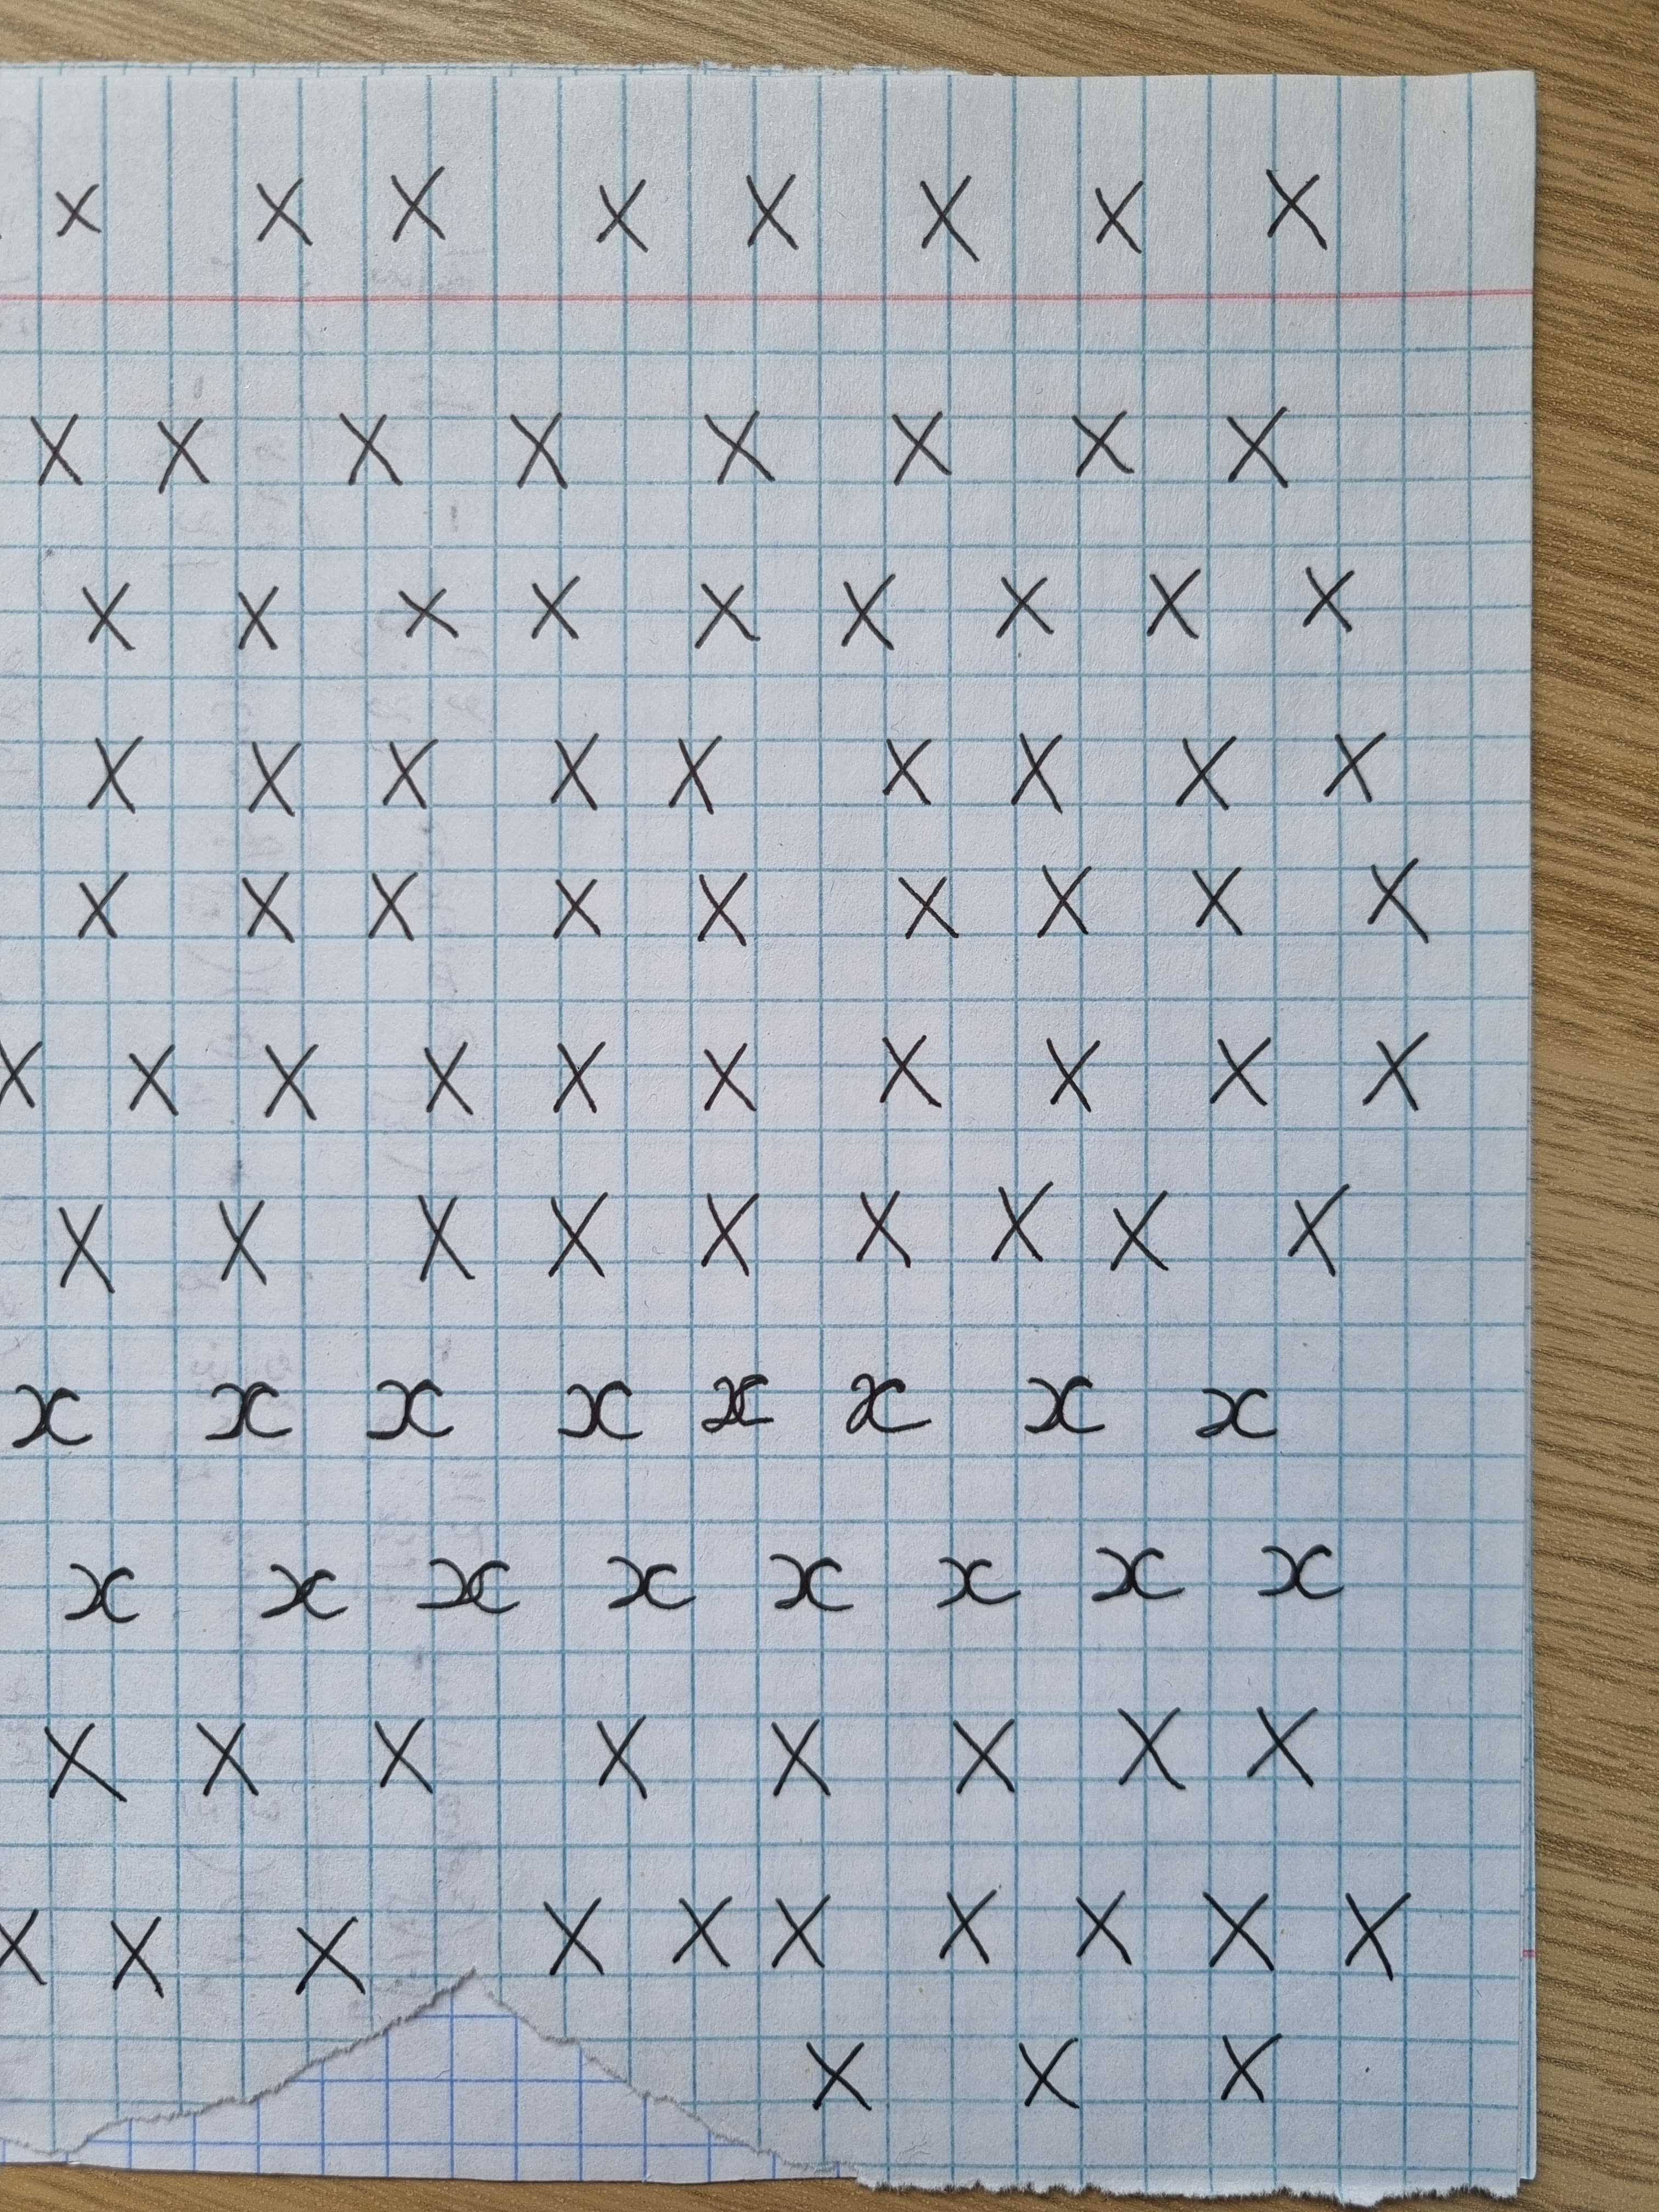x: (33, 1712, 131, 1817), (1253, 145, 1335, 254), (286, 1905, 376, 2003), (941, 1707, 1032, 1799), (1108, 1693, 1195, 1787), (528, 1883, 612, 1980), (1215, 392, 1295, 493), (1199, 1890, 1286, 1980), (1338, 1879, 1422, 1973), (695, 402, 779, 493), (328, 399, 404, 493), (51, 1197, 120, 1299), (502, 399, 575, 496), (1366, 853, 1441, 948), (1283, 1183, 1358, 1277), (1359, 1024, 1431, 1122), (870, 1021, 943, 1115), (105, 1902, 173, 2003), (188, 1716, 267, 1803), (1101, 1190, 1176, 1280), (1244, 1696, 1317, 1787), (760, 1709, 835, 1796), (1082, 167, 1150, 263), (540, 1190, 612, 1280), (362, 1709, 439, 1792), (411, 1183, 472, 1287), (850, 1181, 922, 1270), (21, 406, 92, 493), (146, 409, 214, 500), (246, 171, 317, 256), (695, 1183, 760, 1277), (988, 1174, 1053, 1268), (798, 2029, 873, 2109), (692, 1035, 763, 1118), (911, 167, 976, 260), (892, 867, 965, 948), (1002, 2029, 1086, 2099), (737, 160, 798, 254), (666, 1879, 730, 1968), (211, 1193, 272, 1284), (518, 563, 582, 648), (1206, 1028, 1276, 1106), (1215, 2022, 1283, 2102), (1143, 557, 1202, 648), (120, 1035, 179, 1125), (230, 864, 301, 939), (763, 1890, 835, 1965), (547, 1031, 608, 1118), (695, 570, 760, 651), (1063, 399, 1127, 479), (1182, 853, 1241, 941), (836, 570, 899, 651), (589, 1707, 647, 1796), (418, 1031, 479, 1115), (1040, 1028, 1098, 1115), (885, 402, 950, 479), (221, 577, 286, 653), (253, 1035, 317, 1111), (70, 573, 131, 653), (688, 857, 744, 944), (1070, 1886, 1134, 1961), (385, 160, 443, 244), (240, 732, 301, 808), (85, 728, 143, 808), (1012, 725, 1066, 808), (392, 580, 460, 644), (992, 566, 1053, 637), (362, 857, 423, 928), (1176, 728, 1230, 808), (1032, 857, 1089, 932), (941, 1879, 995, 1958), (1298, 557, 1354, 632), (666, 725, 721, 799), (75, 864, 131, 939), (1328, 721, 1378, 803), (47, 171, 105, 240), (382, 728, 434, 805), (589, 179, 650, 244), (877, 725, 931, 796), (547, 732, 596, 799), (549, 871, 598, 932)
